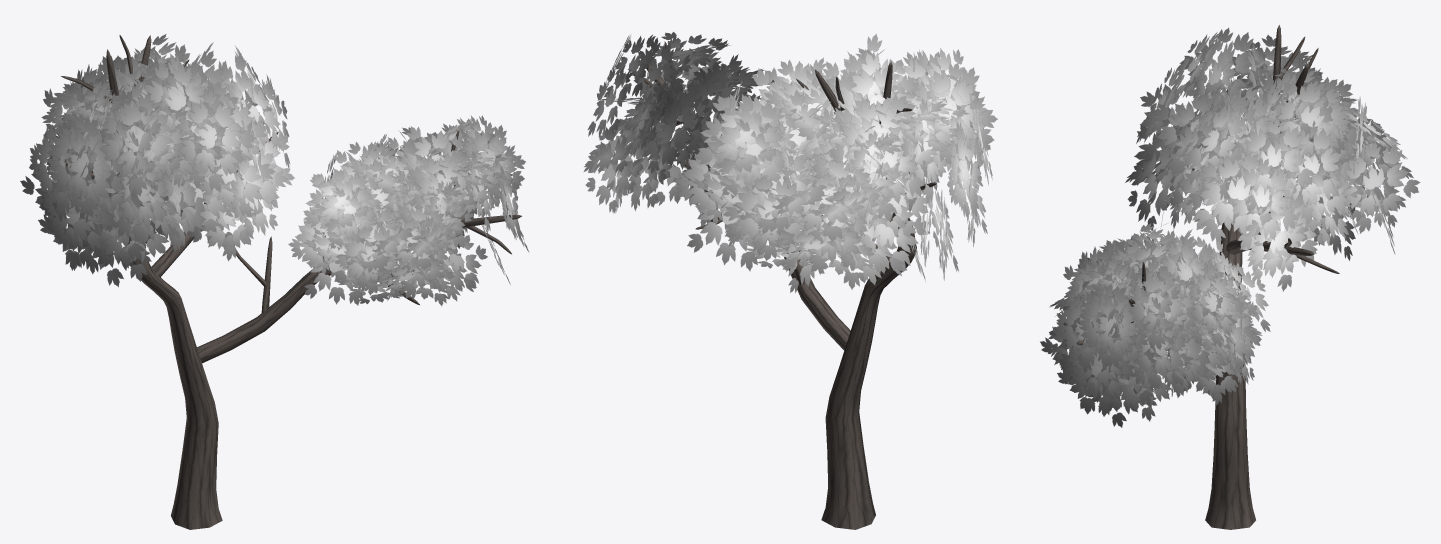
The model's file is tr_maple4.glb.
3 views of the same model, side by side, from view 1: azimuth 30°, elevation 25°; view 2: azimuth 150°, elevation 25°; view 3: azimuth 270°, elevation 25° (orthographic). The views are drawn at different scales.
Visible parts, largest first — view 1: tree; view 2: tree; view 3: tree.
Part boxes in pixels (x1,y1,x2,y2): tree: [20, 34, 528, 529]; tree: [584, 32, 997, 529]; tree: [1040, 25, 1420, 529].
Bounding box in the file's own units: 6.09 × 6.5 × 4.8.
Materials: 2 (2 with a texture image).
